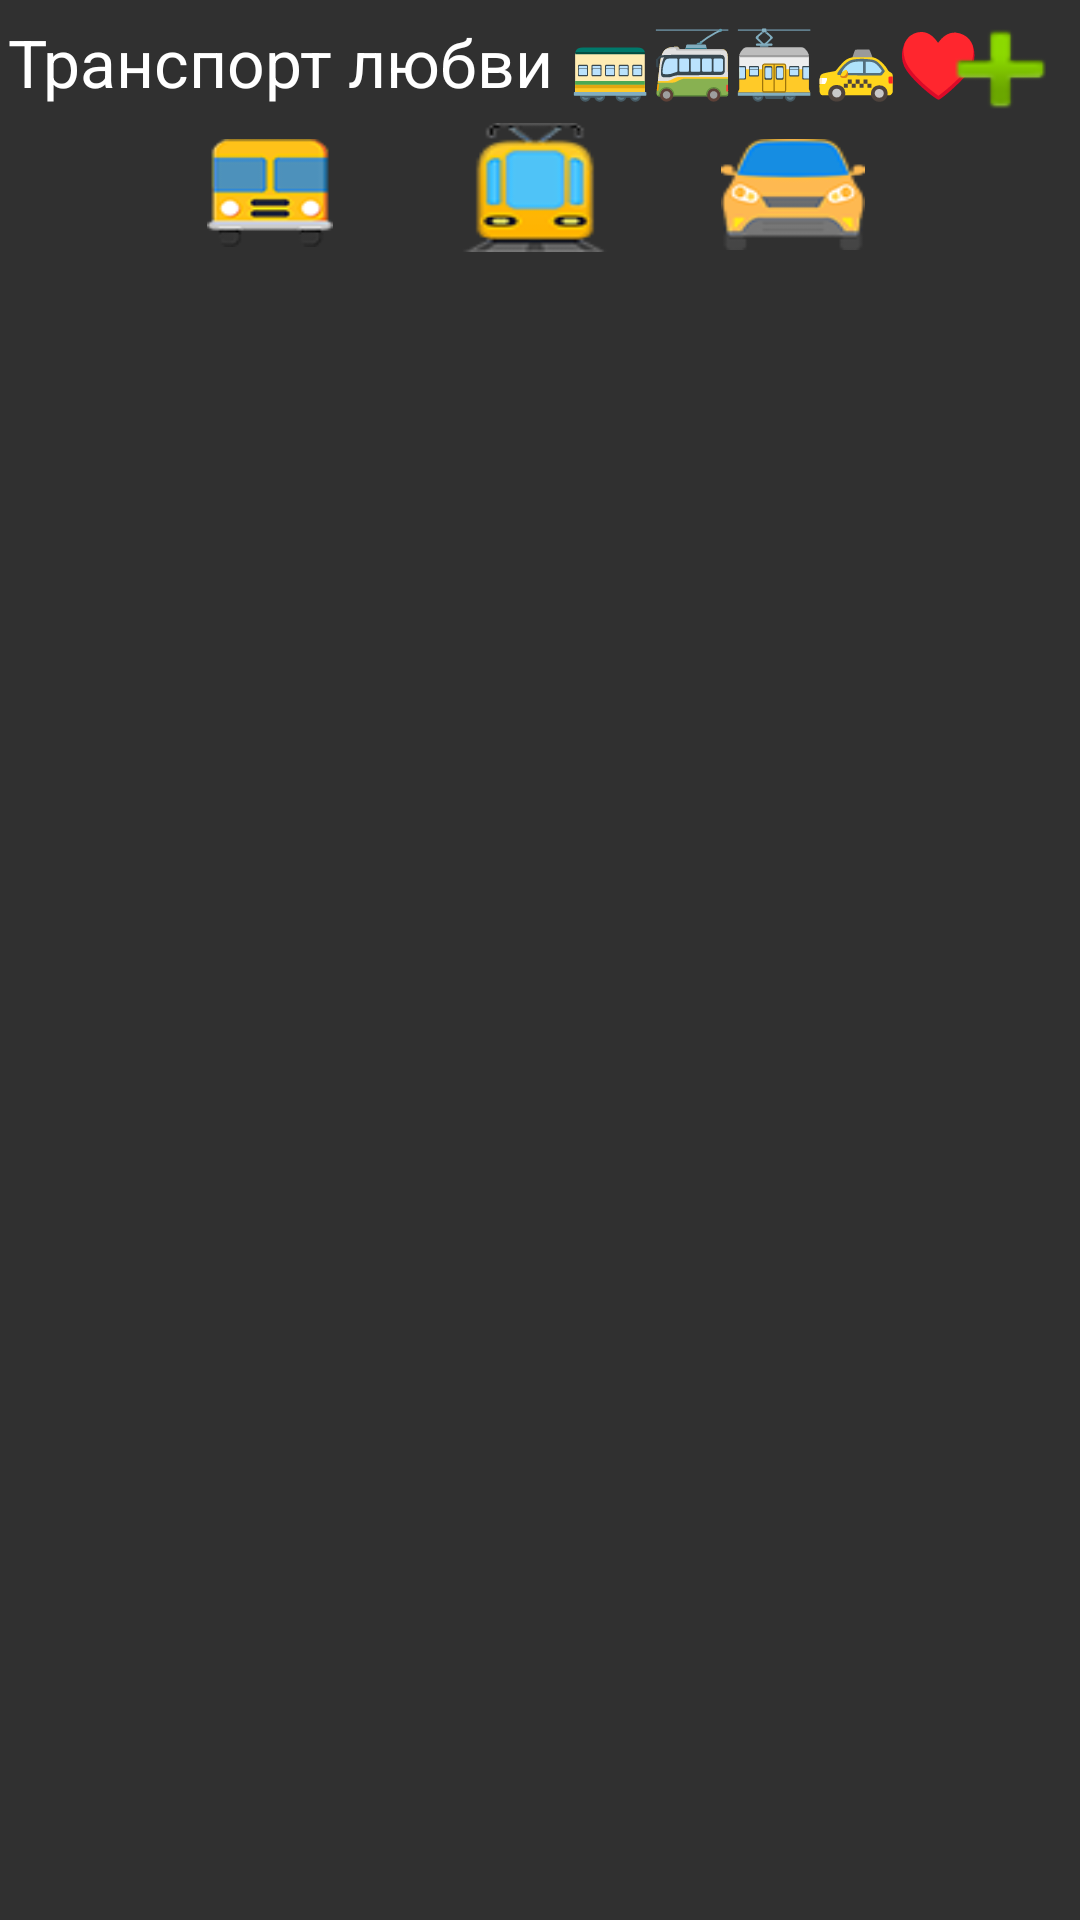

Named icons in this screenshot (1080px x 1920px) and their centers, point (x, y):
add: point (983, 69)
bus: point (270, 185)
car: point (793, 188)
tram: point (535, 187)
